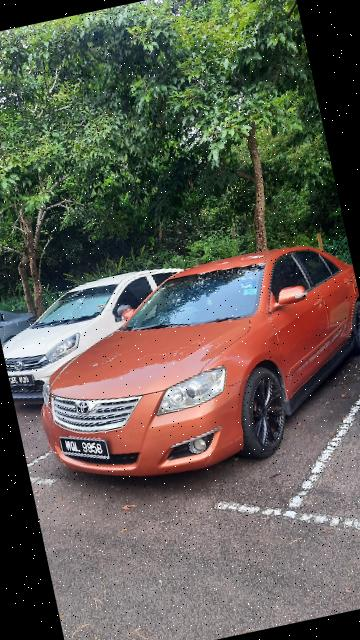License_Plate: (57, 426, 113, 469), (8, 365, 38, 393)
car: (15, 229, 360, 502), (1, 256, 219, 410)
